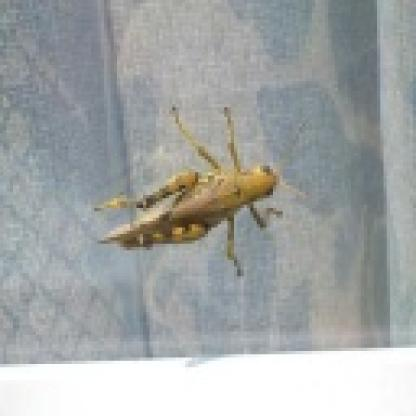grasshopper: (107, 104, 294, 270)
